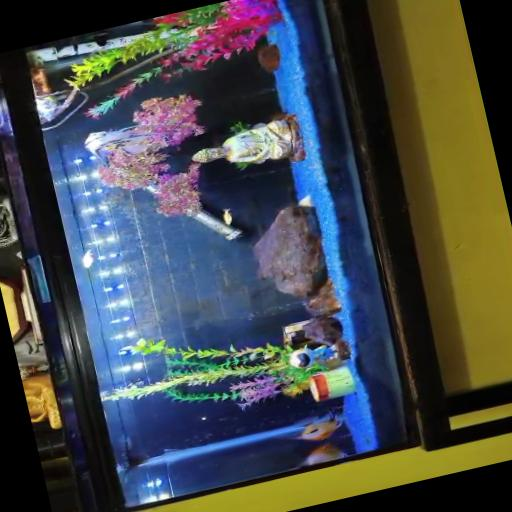Fish: (85, 124, 169, 163), (284, 407, 344, 440), (299, 443, 347, 465), (82, 249, 94, 267), (223, 208, 233, 224)
